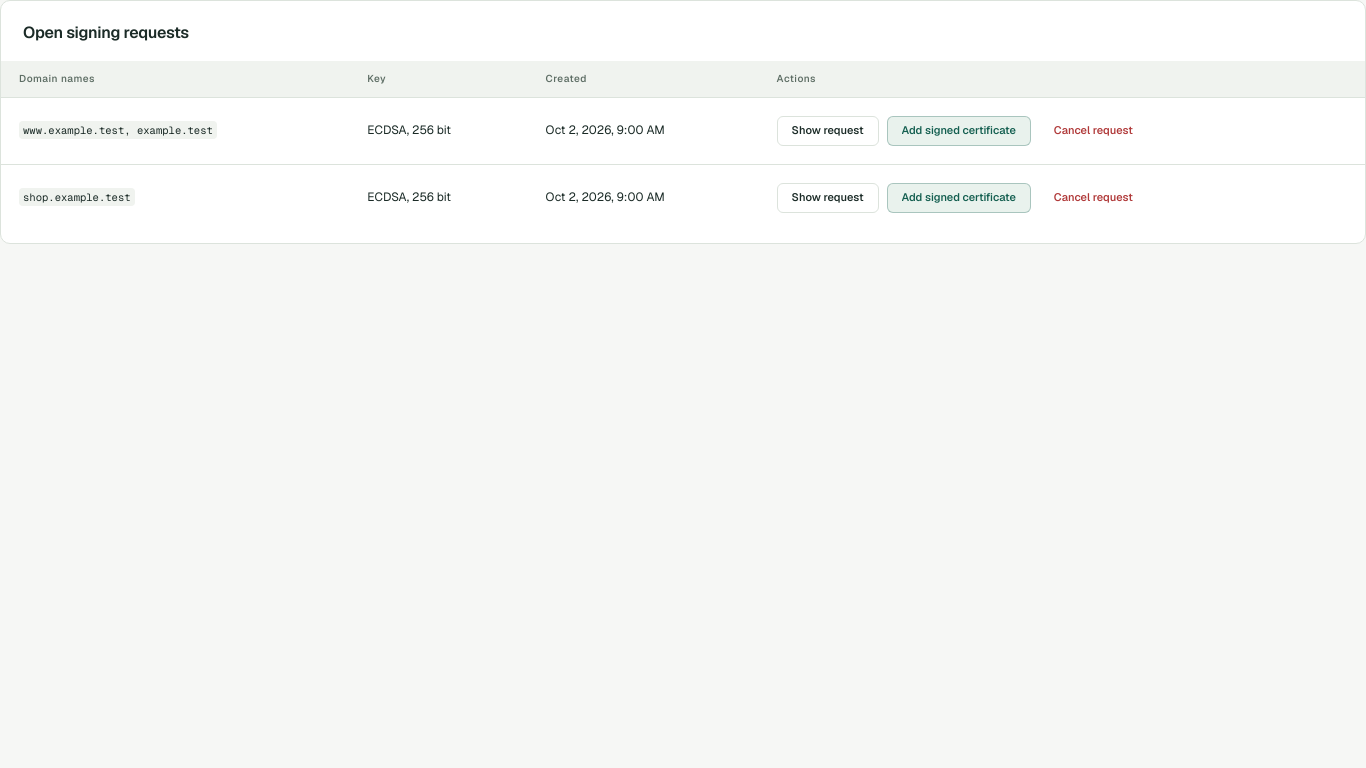
PendingCSRs › shows the server text when the certificate is for another key, and keeps the text
The width and height of the screenshot is (1366, 768).
Click the button "Add signed certificate" in the row of "www.example.test, example.test". click: (959, 130)
box: [886,116,1031,146]
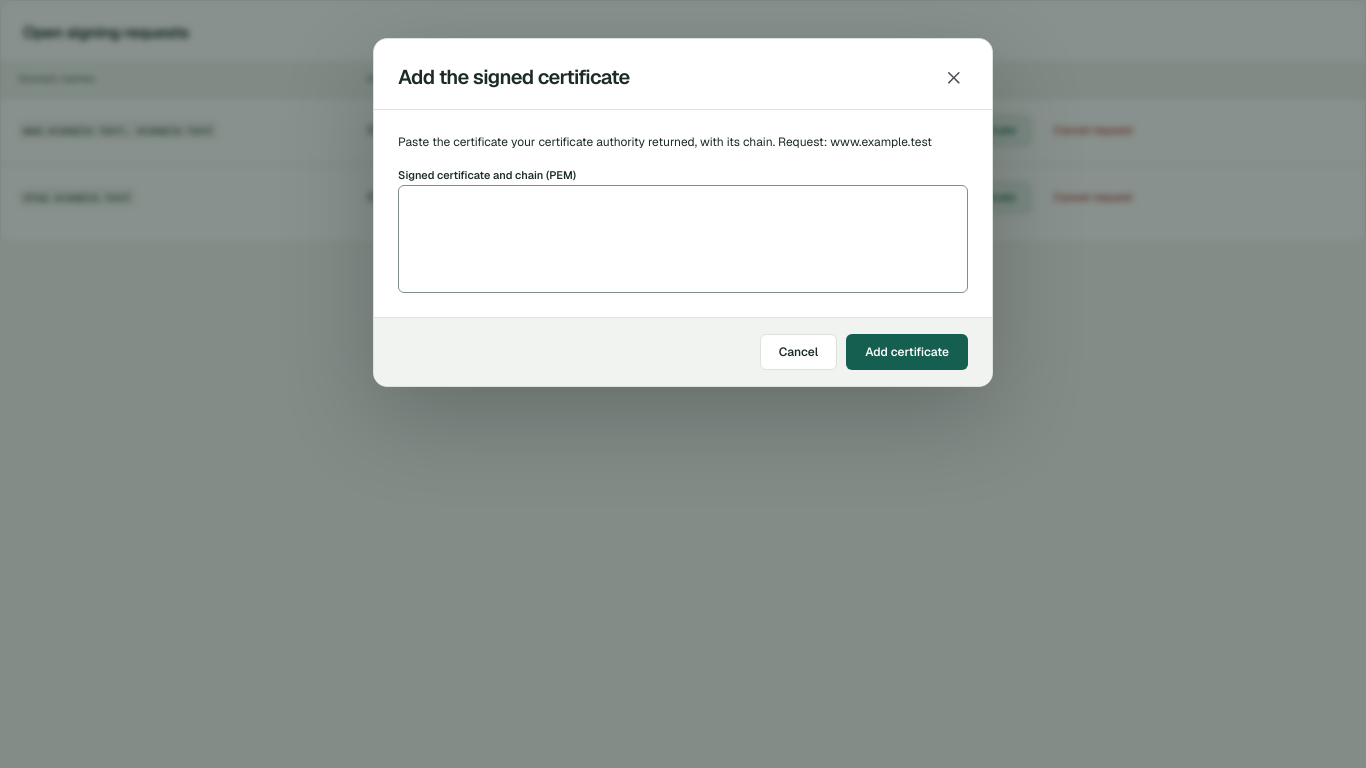
Type "SIGNED" into the text box labelled "Signed certificate and chain (PEM)". click: (683, 240)
box: [398,186,968,294]
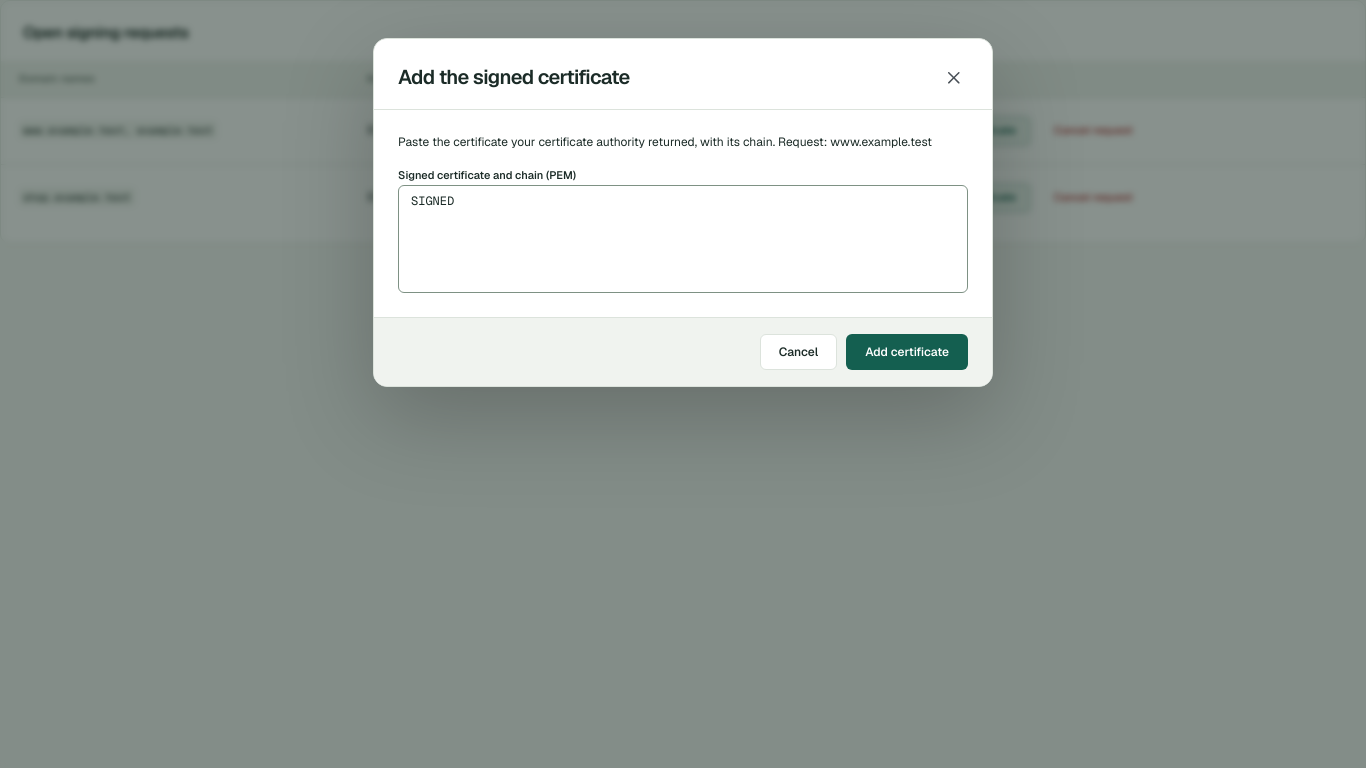
Click the button "Add certificate". click: (907, 352)
box: [846,334,968,370]
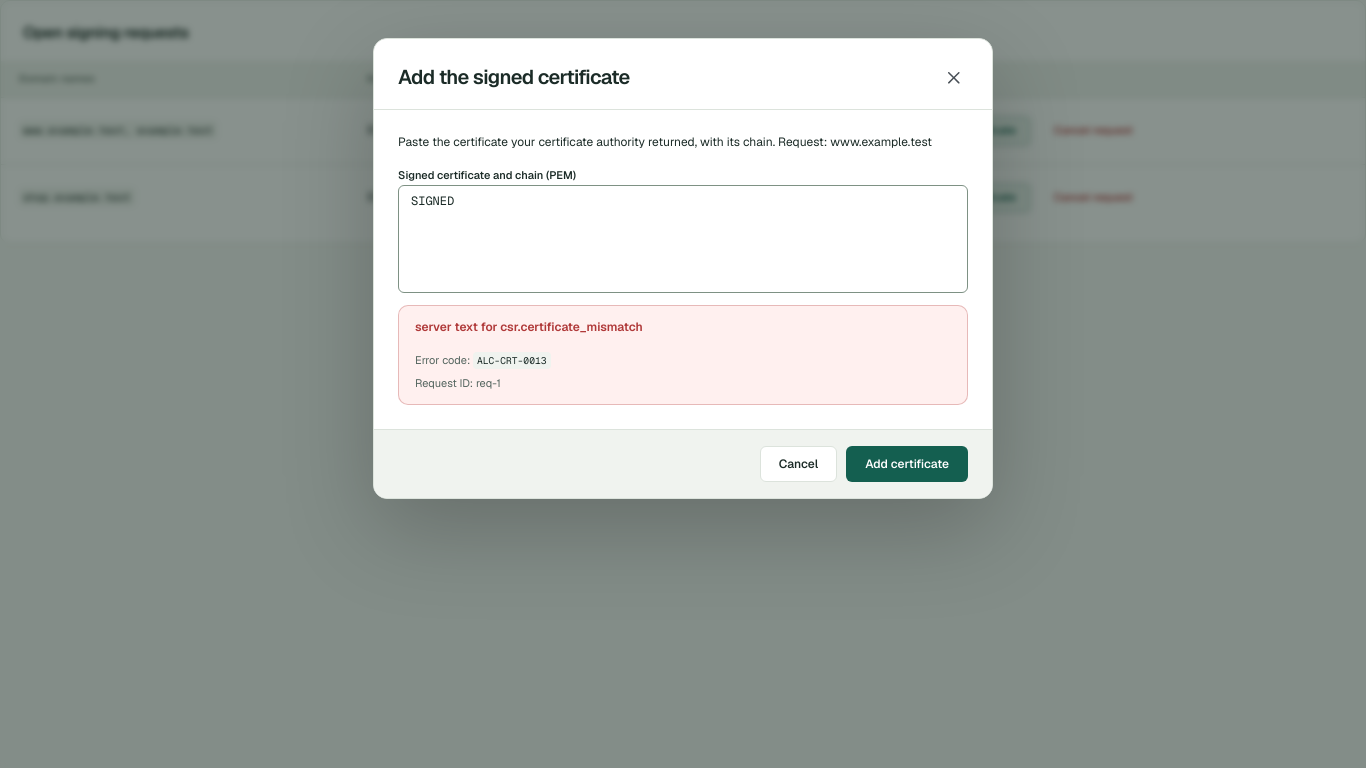
Now the message is shown, box [398,306,968,405]
